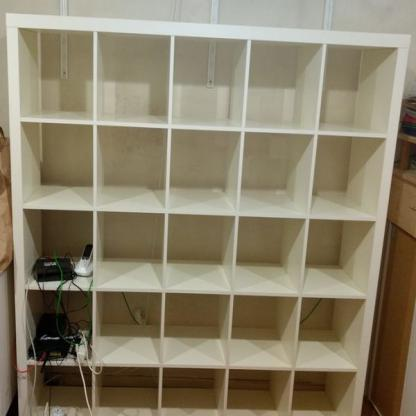lamp: (5, 10, 412, 415)
